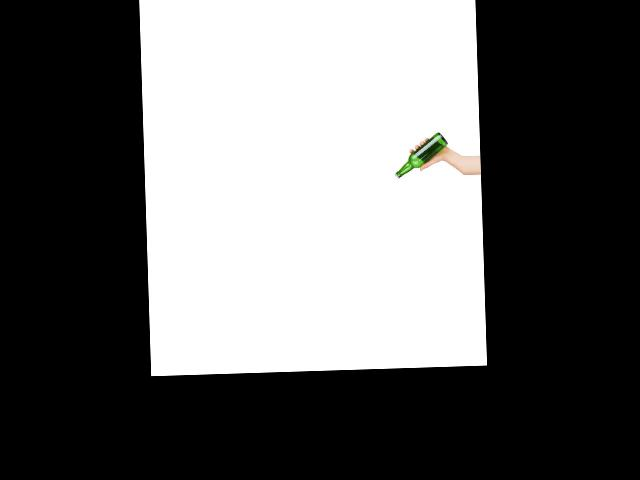beer: (394, 133, 450, 179)
